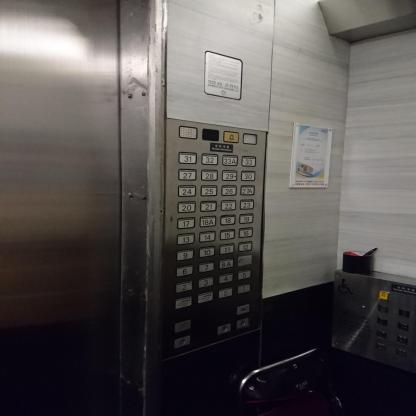-1: (197, 290, 214, 304)
-2: (174, 295, 193, 310)
0: (217, 286, 233, 299)
1: (236, 282, 252, 294)
10: (198, 245, 215, 258)
11: (218, 243, 235, 254)
12: (238, 240, 253, 252)
13: (176, 232, 195, 245)
14: (198, 230, 216, 243)
15: (219, 228, 235, 240)
16: (238, 227, 253, 238)
17: (177, 216, 195, 229)
18: (219, 214, 236, 225)
18A: (199, 215, 216, 227)
19: (239, 213, 253, 224)
2: (175, 280, 193, 294)
20: (177, 201, 196, 213)
21: (199, 200, 217, 212)
22: (220, 200, 236, 210)
23: (239, 199, 254, 210)
24: (178, 185, 196, 197)
25: (200, 185, 217, 196)
26: (221, 185, 237, 196)
27: (178, 168, 196, 181), (374, 341, 386, 352)
27A: (240, 184, 255, 196)
28: (201, 168, 218, 180)
29: (221, 169, 238, 181)
3: (197, 275, 214, 289)
30: (241, 170, 255, 181)
31: (178, 152, 197, 164)
32: (201, 152, 218, 166)
33: (241, 155, 256, 167)
33A: (222, 154, 238, 166)
4: (218, 272, 234, 284), (398, 308, 410, 318)
5: (237, 269, 252, 280)
6: (176, 264, 193, 277)
7: (198, 260, 215, 273)
8A: (218, 257, 234, 269)
9: (176, 248, 194, 261)
alarm: (223, 131, 239, 143), (378, 290, 389, 301)
blur: (237, 254, 252, 266), (396, 334, 409, 345), (377, 303, 389, 314), (376, 316, 388, 326), (397, 321, 409, 331), (376, 330, 387, 340), (396, 348, 407, 358)
close: (236, 303, 250, 315)
empty: (202, 128, 219, 141), (242, 133, 258, 145)
keyhole: (173, 334, 191, 349), (216, 322, 232, 336), (235, 316, 250, 330)
open: (174, 319, 191, 333)
speaker: (178, 125, 198, 139)
